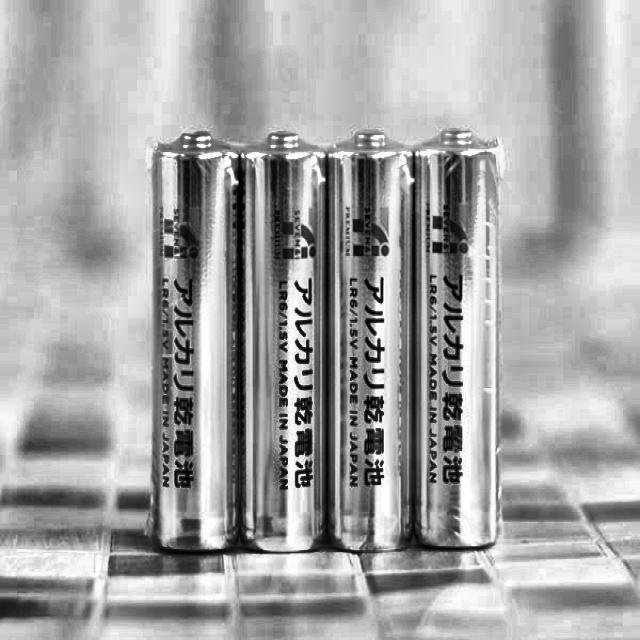drycell: (413, 121, 510, 554), (323, 120, 417, 562), (239, 120, 330, 557), (148, 128, 240, 558)
